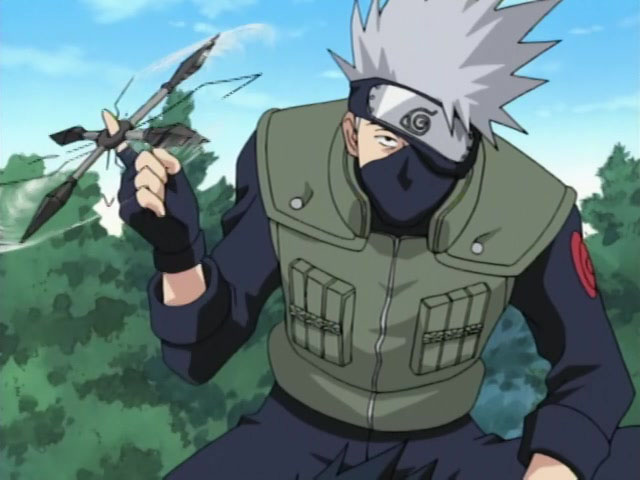kakashi: (344, 73, 482, 228)
